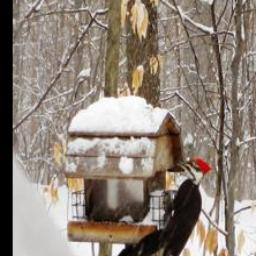Woodpecker: (122, 157, 214, 256)
